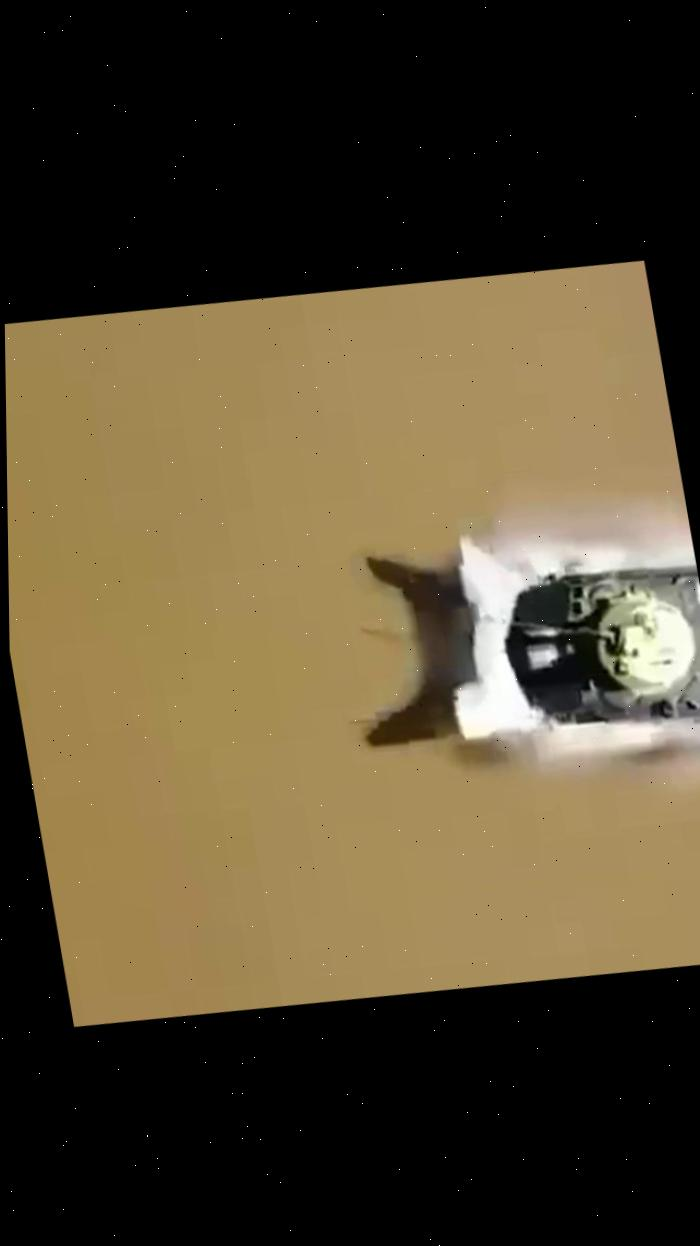tank: (463, 543, 700, 761)
